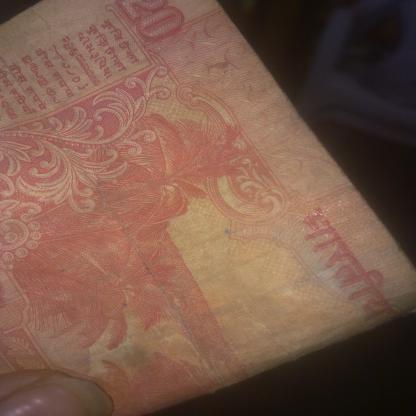Old20Back: (0, 0, 411, 386)
